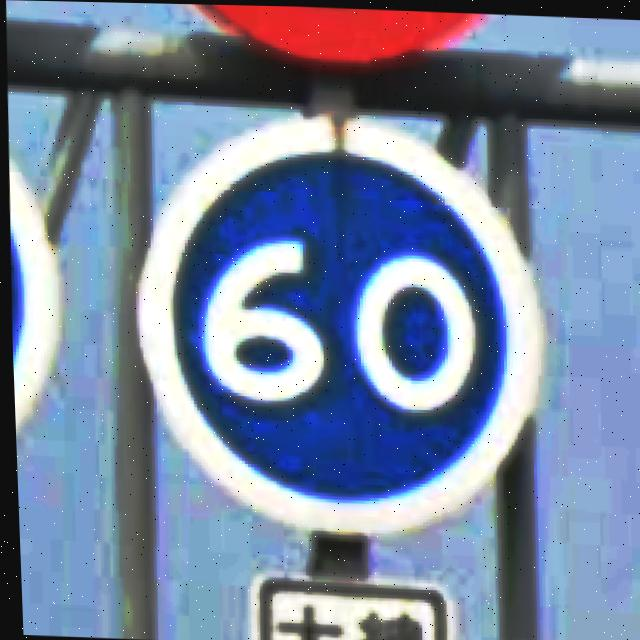min60: (120, 105, 550, 537)
